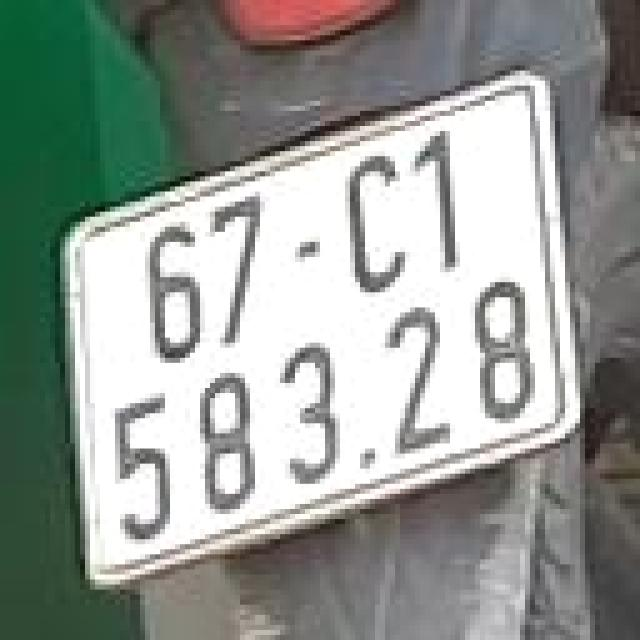1: (399, 112, 486, 293)
2: (372, 286, 473, 473)
3: (270, 326, 356, 500)
5: (108, 382, 190, 560)
6: (138, 212, 215, 374)
7: (199, 185, 277, 358)
8: (460, 254, 547, 446), (190, 356, 266, 520)
C: (335, 135, 427, 313)
